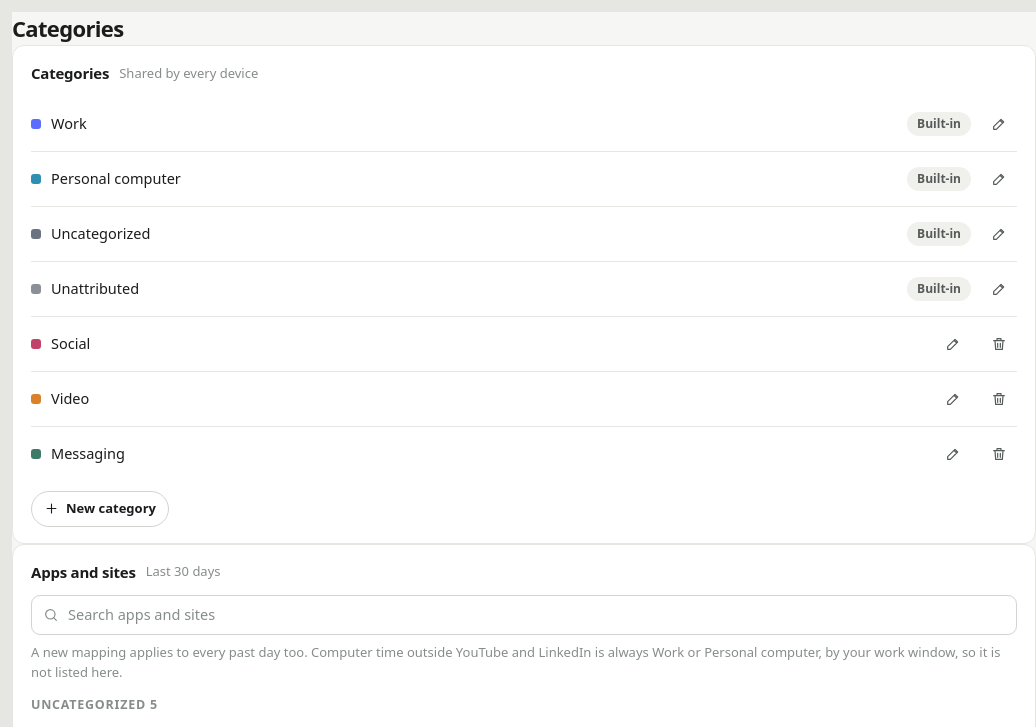
Test: Categories › refuses a duplicate category name
Step 1. Click the button "New category" → (100,508), box [31,490,169,526]
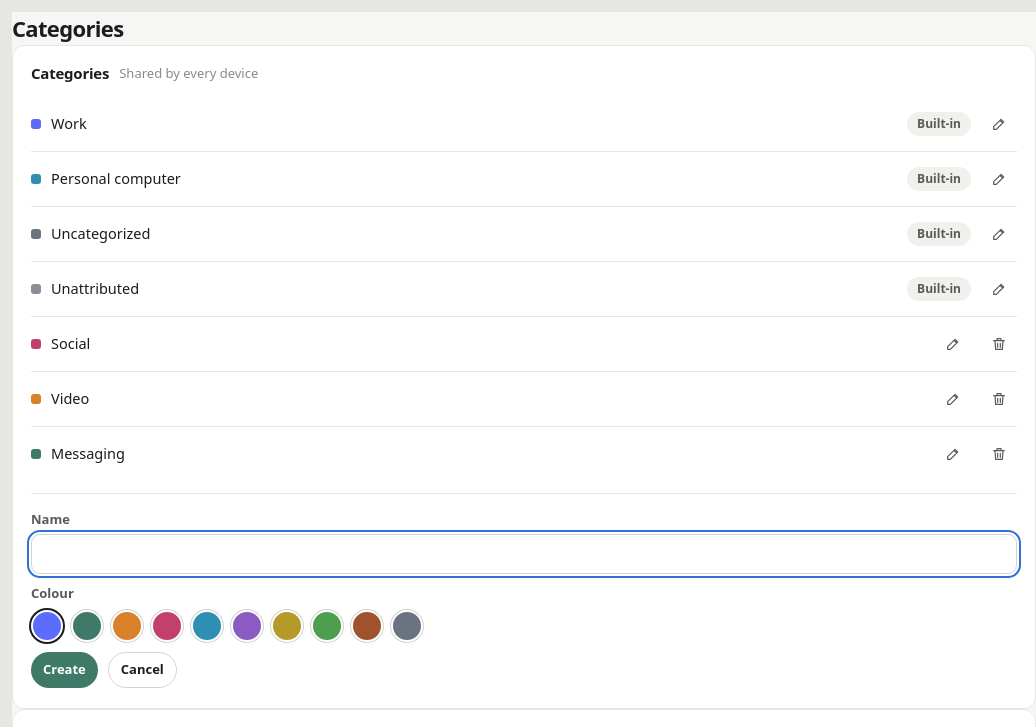
Step 2. Type "social" into the field labelled "Name" → (524,554), box [31,534,1017,574]
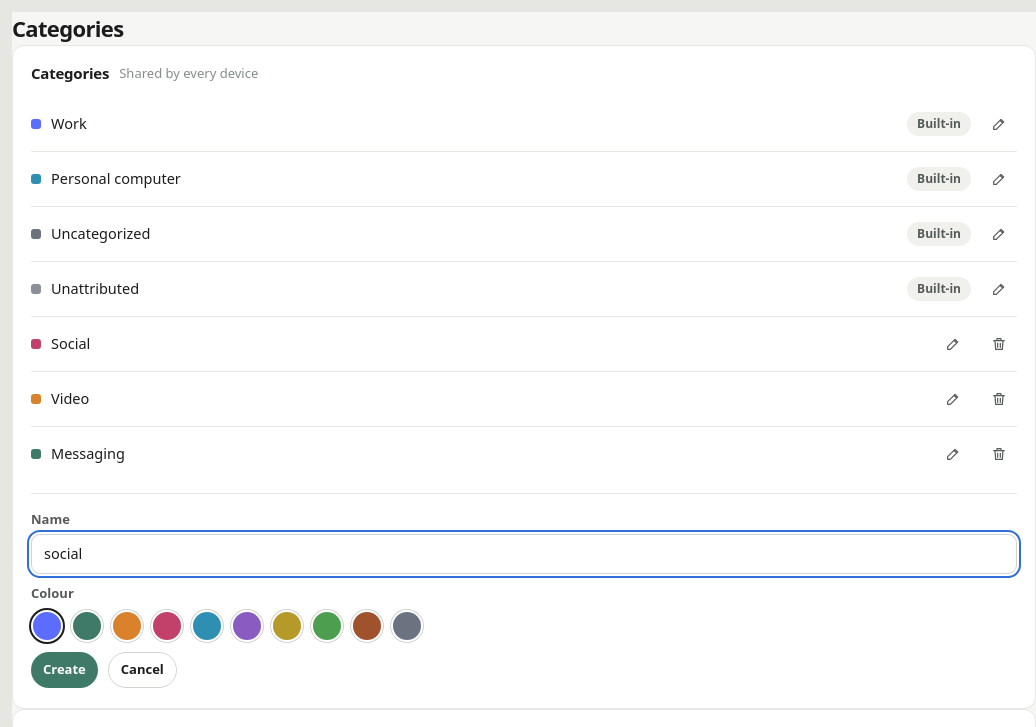
Step 3. Click the button "Create" → (64,670), box [31,652,98,688]
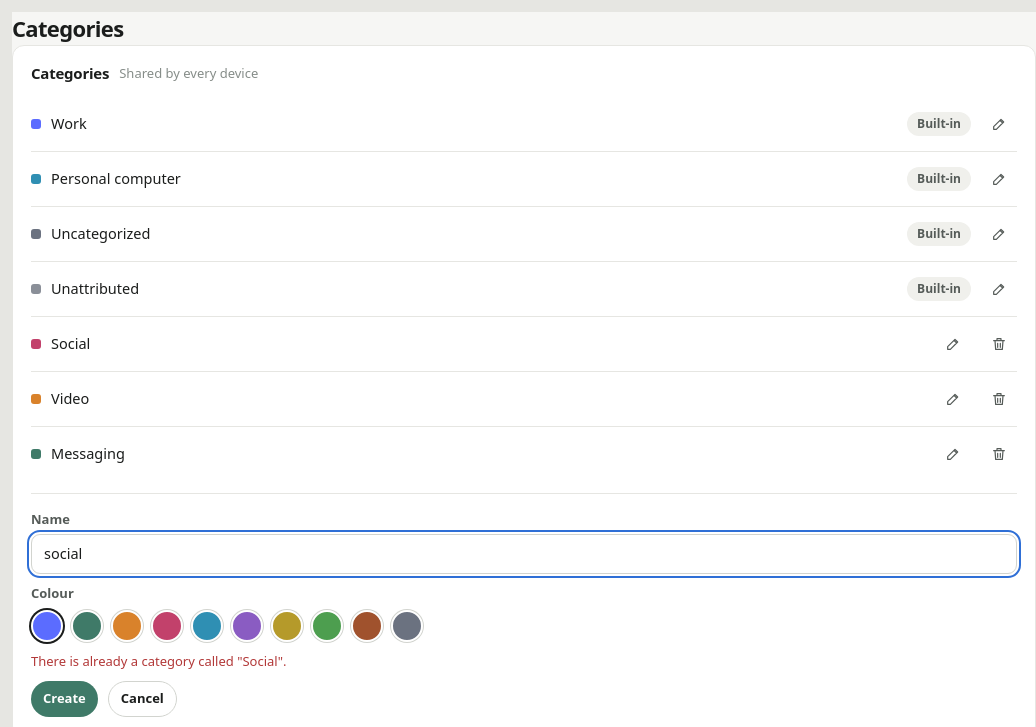
Result: the text "There is already a category called \"Social\"." is shown at [31,652,286,670]
